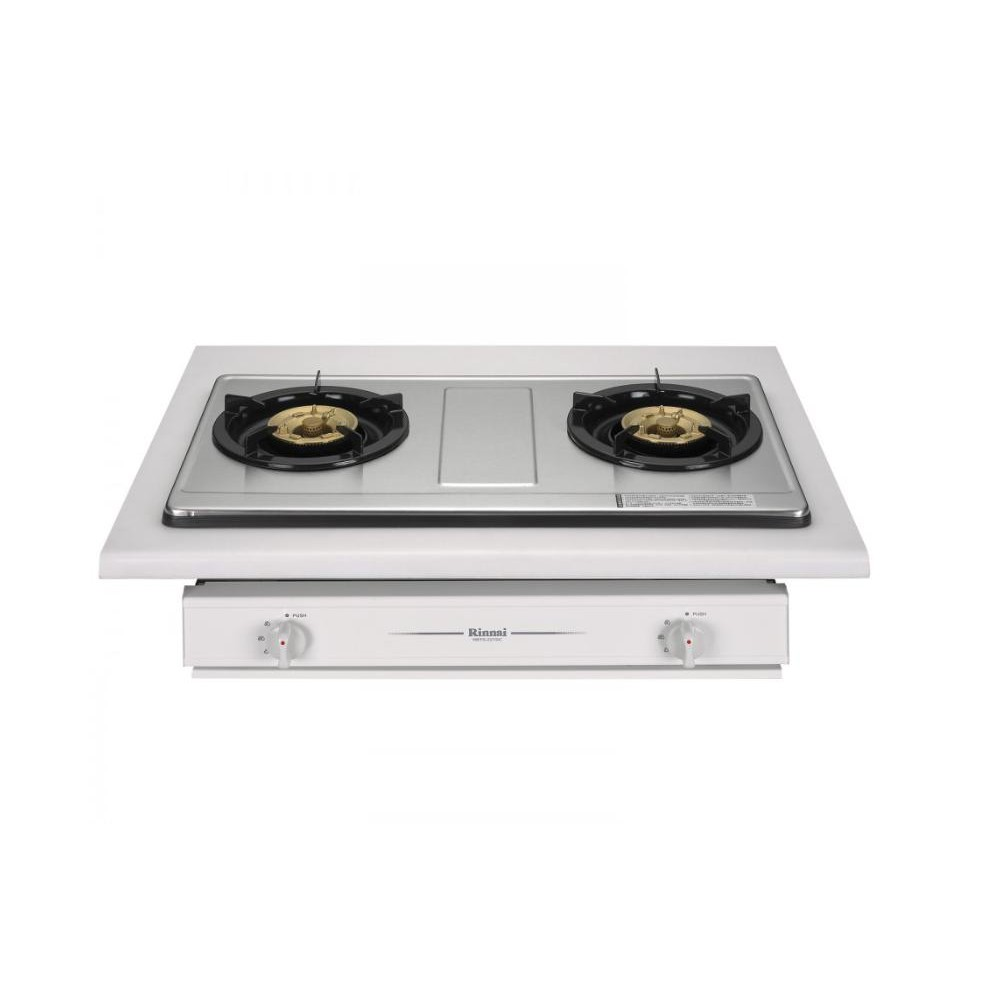gasoven: (93, 337, 880, 688)
